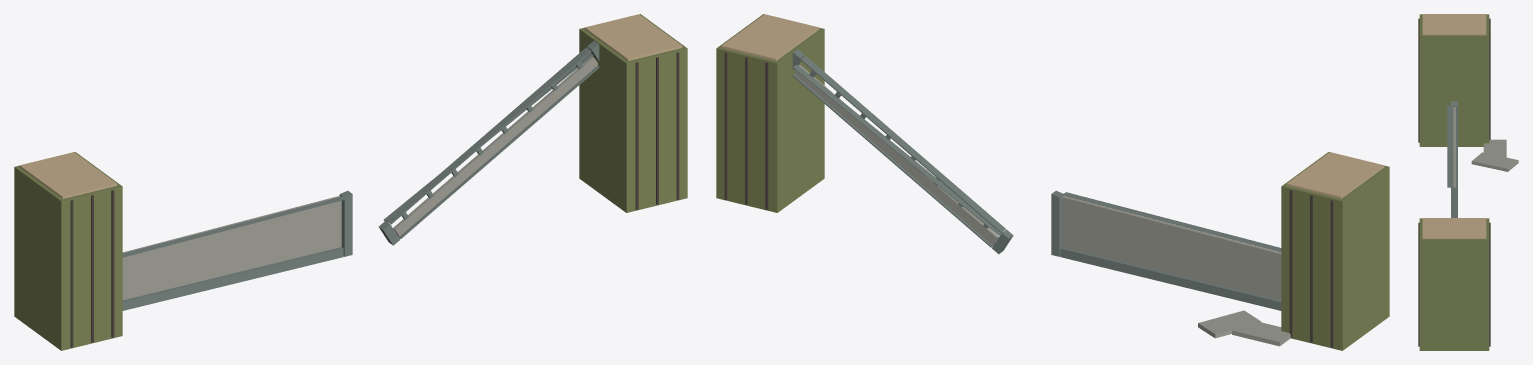
File: SM_PuertaViaDoble_v0_TuboChapa_e2_MuyDanado_LOD0.fbx
The picture shows the model from 3 angles, left to right: view 1: azimuth 30°, elevation 25°; view 2: azimuth 150°, elevation 25°; view 3: azimuth 270°, elevation 25°; orthographic projection. The views are drawn at different scales.
Parts seen in each view (by area): view 1: SM_puerta_via_doble_v2_LOD0, Hoja_O, Hoja_E; view 2: SM_puerta_via_doble_v2_LOD0, Hoja_O, Hoja_E; view 3: SM_puerta_via_doble_v2_LOD0, Hoja_O.
Boxes of the visible parts, x1,y1,x2,y2 form: SM_puerta_via_doble_v2_LOD0: [14, 14, 687, 350]; Hoja_O: [122, 190, 352, 310]; Hoja_E: [379, 40, 599, 245]; SM_puerta_via_doble_v2_LOD0: [716, 14, 1389, 350]; Hoja_O: [1051, 190, 1281, 310]; Hoja_E: [792, 49, 1013, 254]; SM_puerta_via_doble_v2_LOD0: [1418, 14, 1518, 350]; Hoja_O: [1447, 101, 1457, 217].
Bounding box in the file's own units: 9.2 × 2.16 × 1.72.
